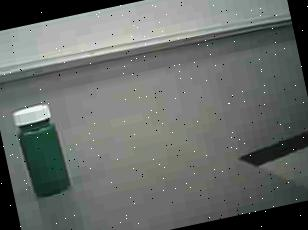Bottle C: (0, 92, 86, 208)
